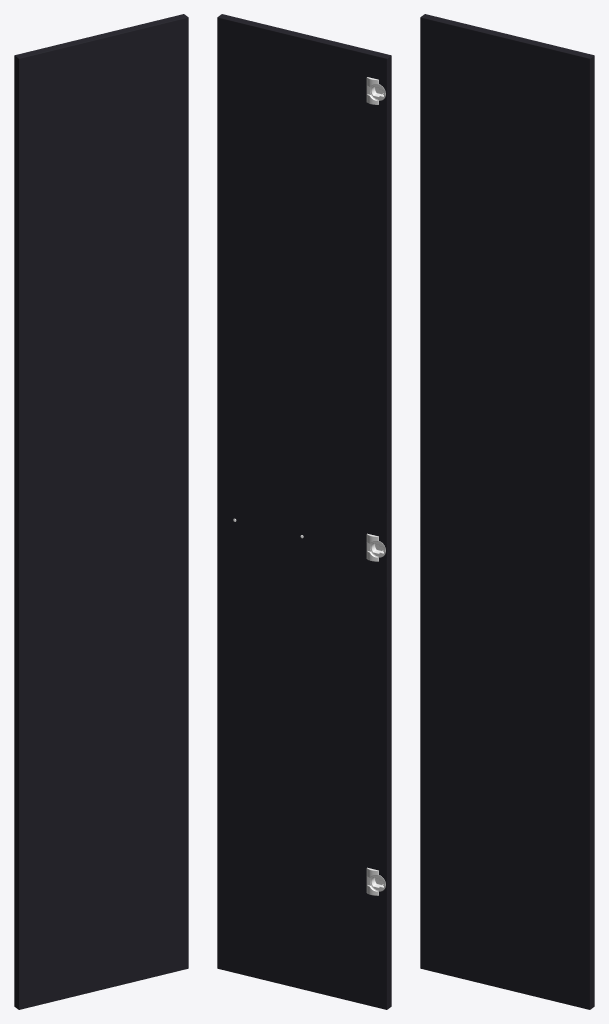
The model's file is Kitchen02Door.obj.
The picture shows the model from 3 angles, left to right: view 1: azimuth 30°, elevation 25°; view 2: azimuth 150°, elevation 25°; view 3: azimuth 330°, elevation 25°; orthographic projection.
Parts seen in each view (by area): view 1: SM_Kitchen_02_Door_17; view 2: SM_Kitchen_02_Door_17; view 3: SM_Kitchen_02_Door_17.
Part boxes in pixels (x1,y1,x2,y2): SM_Kitchen_02_Door_17: (14, 14, 188, 1009); SM_Kitchen_02_Door_17: (217, 14, 391, 1009); SM_Kitchen_02_Door_17: (420, 14, 594, 1009).
Size of the model in its own units: 39.7 by 212 by 2.49.
